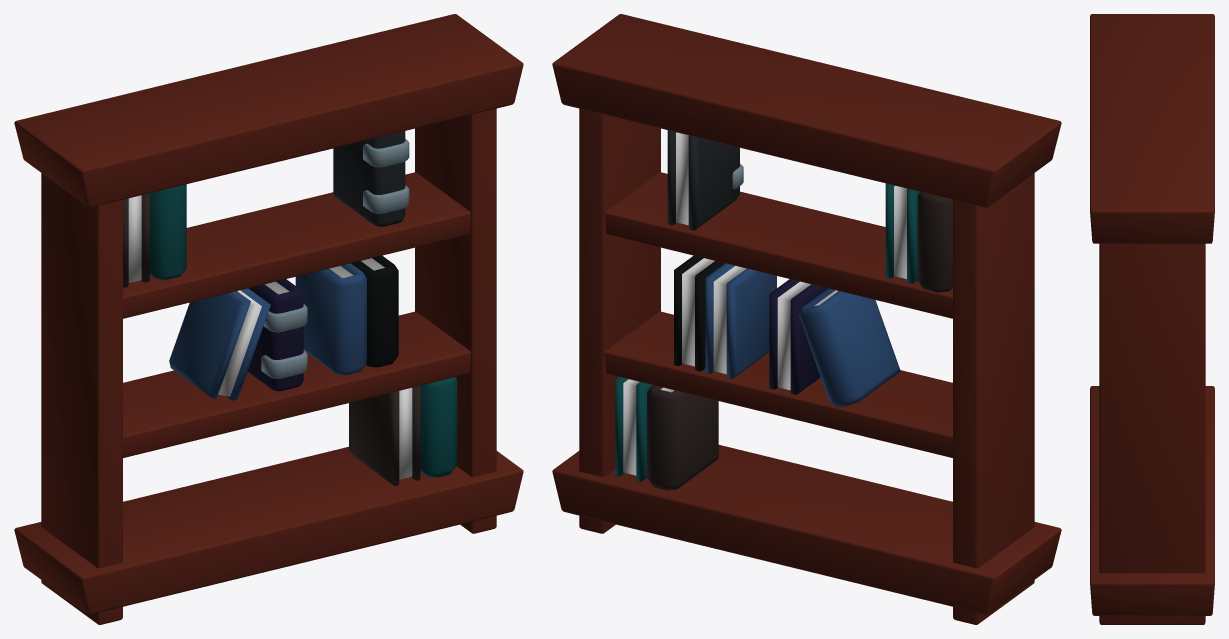
File: bookcaseWideFilled.obj
The picture shows the model from 3 angles, left to right: view 1: azimuth 30°, elevation 25°; view 2: azimuth 150°, elevation 25°; view 3: azimuth 270°, elevation 25°; orthographic projection. The views are drawn at different scales.
Visible parts, largest first — view 1: bookcaseWideFilled_Cube.4109; view 2: bookcaseWideFilled_Cube.4109; view 3: bookcaseWideFilled_Cube.4109.
Boxes of the visible parts, x1=… form: bookcaseWideFilled_Cube.4109: x1=14, y1=14, x2=523, y2=624; bookcaseWideFilled_Cube.4109: x1=552, y1=14, x2=1061, y2=624; bookcaseWideFilled_Cube.4109: x1=1090, y1=14, x2=1214, y2=624.
Bounding box in the file's own units: 1.99 × 2 × 0.5333.
